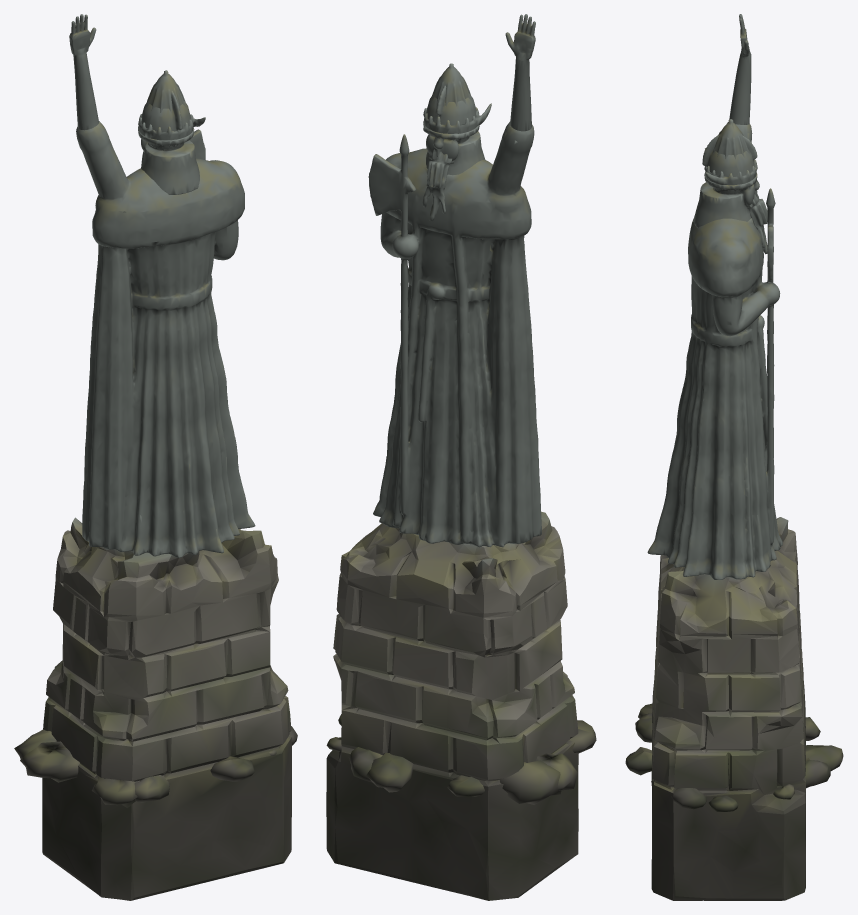
Rendered from argonath.glb.
3 views of the same model, side by side, from view 1: azimuth 30°, elevation 25°; view 2: azimuth 150°, elevation 25°; view 3: azimuth 270°, elevation 25° (orthographic). The views are drawn at different scales.
Parts seen in each view (by area): view 1: lod0, helm_lod0, crown_lod0; view 2: lod0, crown_lod0, helm_lod0; view 3: lod0, helm_lod0, crown_lod0.
Part boxes in pixels (x1=…): lod0: x1=14, y1=14, x2=297, y2=900; helm_lod0: x1=138, y1=91, x2=199, y2=194; crown_lod0: x1=138, y1=70, x2=205, y2=165; lod0: x1=326, y1=14, x2=596, y2=900; crown_lod0: x1=422, y1=63, x2=491, y2=220; helm_lod0: x1=423, y1=85, x2=485, y2=175; lod0: x1=625, y1=14, x2=843, y2=900; helm_lod0: x1=693, y1=134, x2=757, y2=227; crown_lod0: x1=704, y1=119, x2=767, y2=254.
Size of what is drawn, in the model's own units: 2.67 by 8.95 by 2.2.
